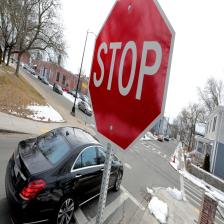Stop-sign: (88, 0, 176, 154)
